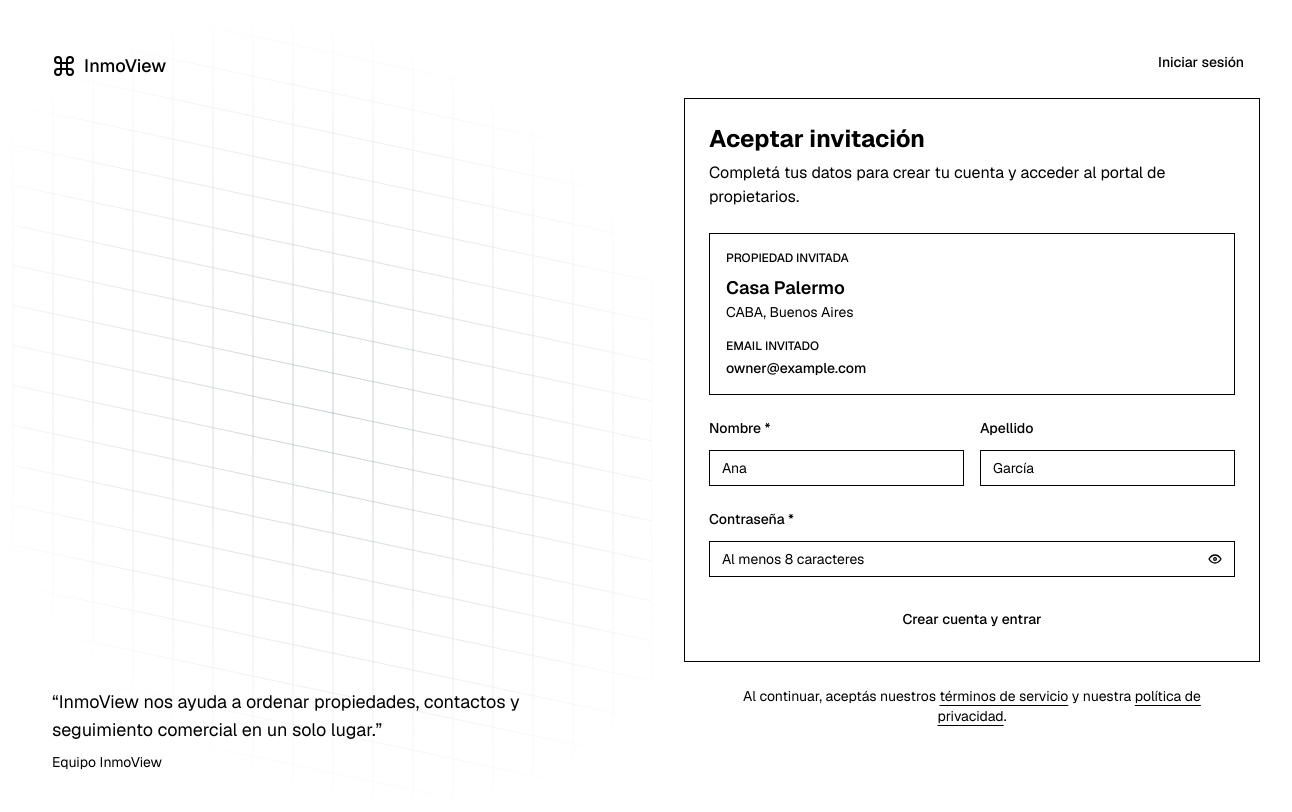
it: OwnerInvitationAcceptanceView › shows submit-time existing-user guidance without redirecting
Step 1. Type "test-credential-123" into the password field labelled "Contraseña *" → (972, 559), box [709,541,1235,577]
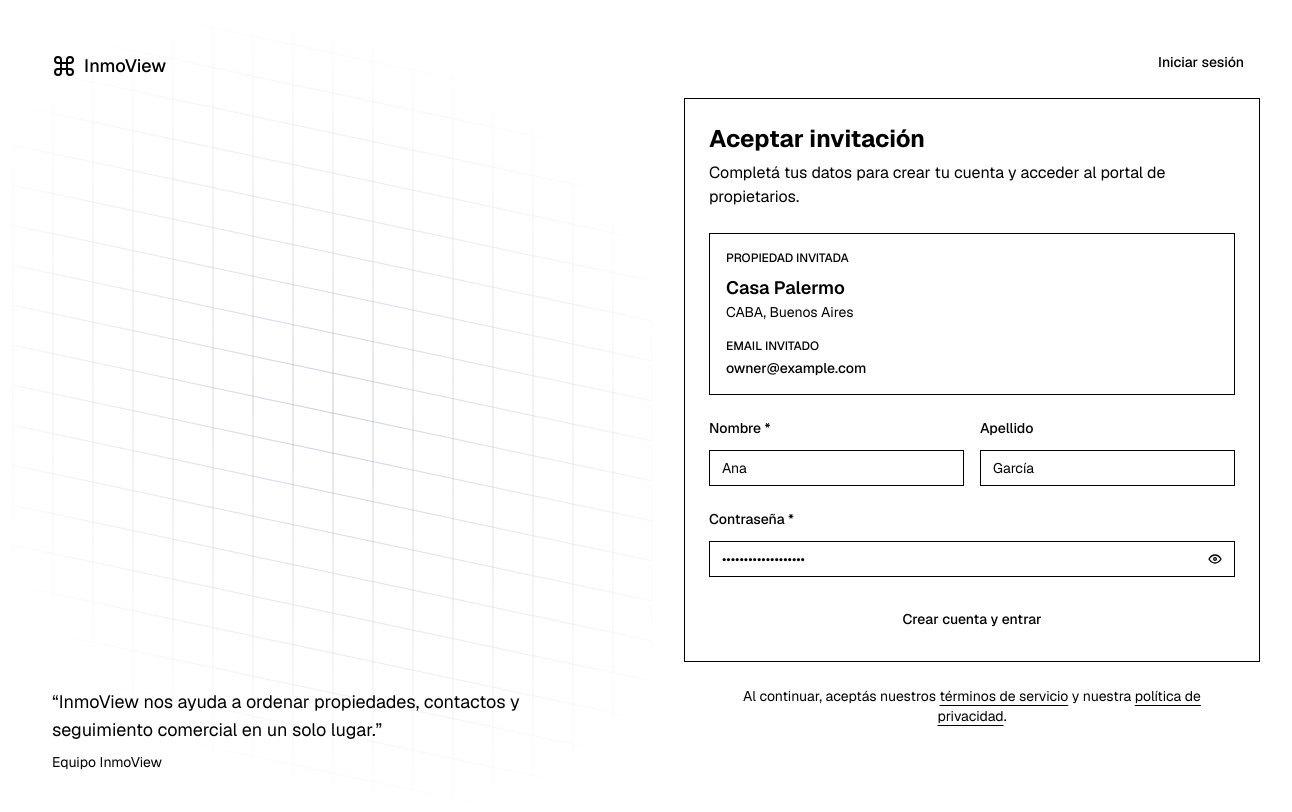
Step 2. Click the button "Crear cuenta y entrar" → (972, 619), box [709,601,1235,637]
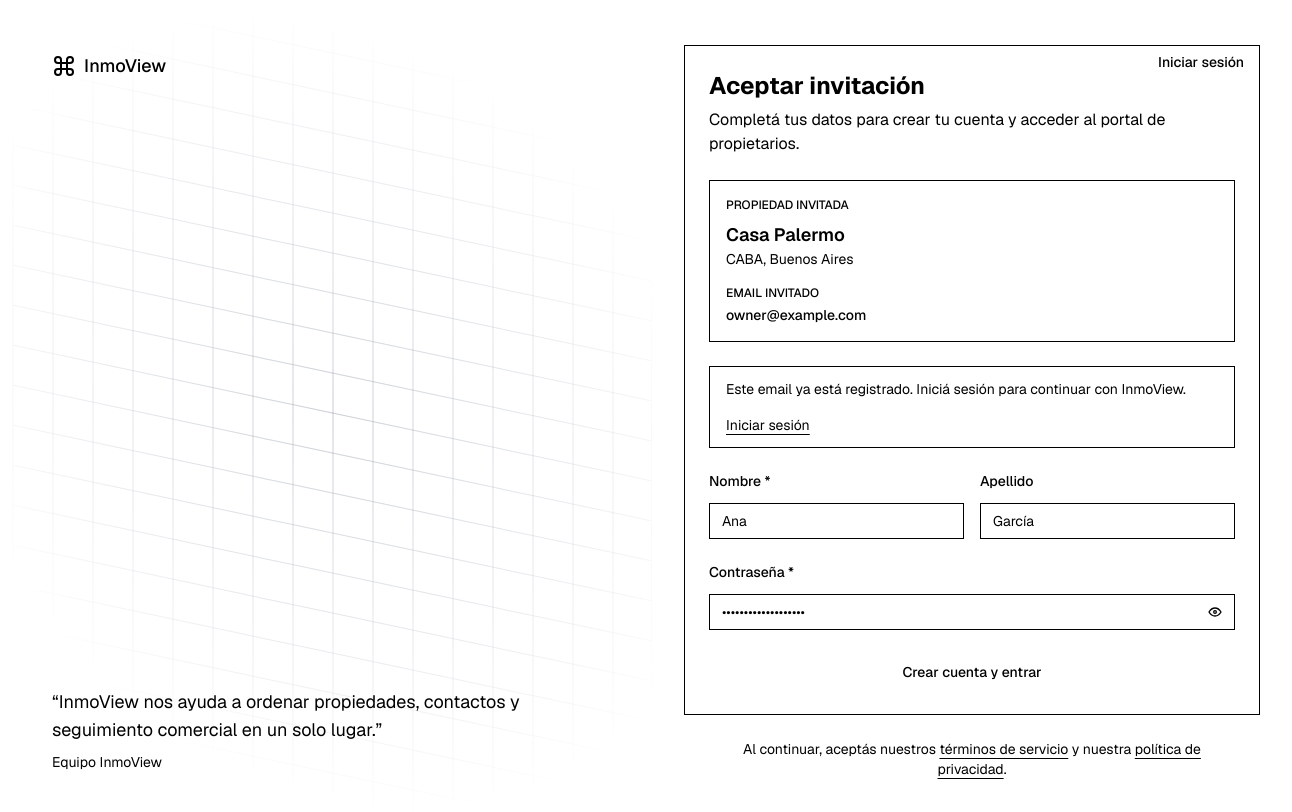
Expected: the number of links "Iniciar sesión" is 2, [1158,53,1244,71]; [726,415,810,435]
Now the text "Este email ya está registrado" is shown, box [726,380,1186,398]
